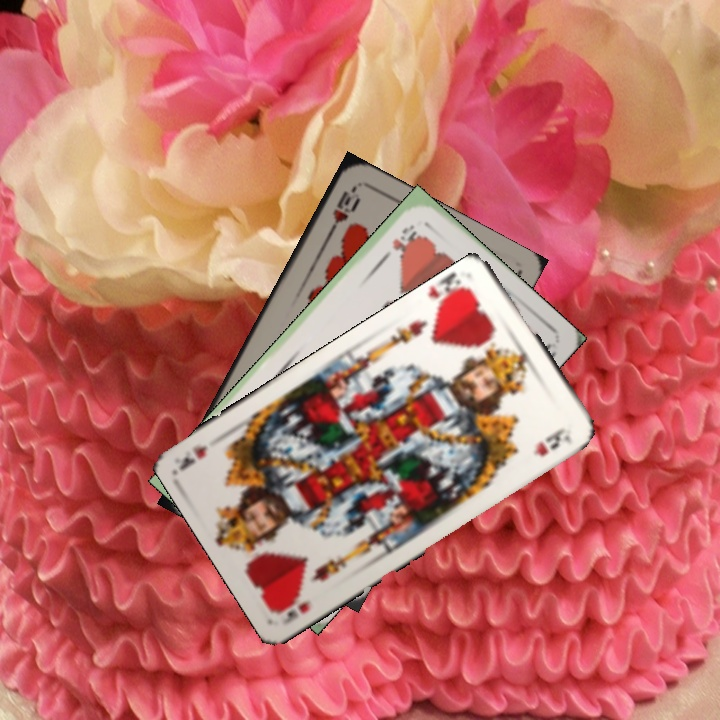H10: (324, 183, 361, 238)
HK: (429, 271, 475, 317), (280, 596, 313, 627)
HO: (376, 220, 419, 266)
